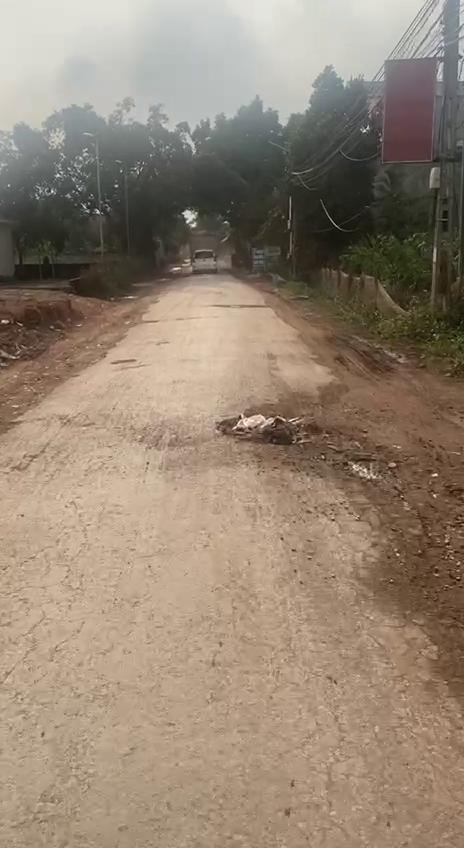pothole: (218, 412, 328, 448)
